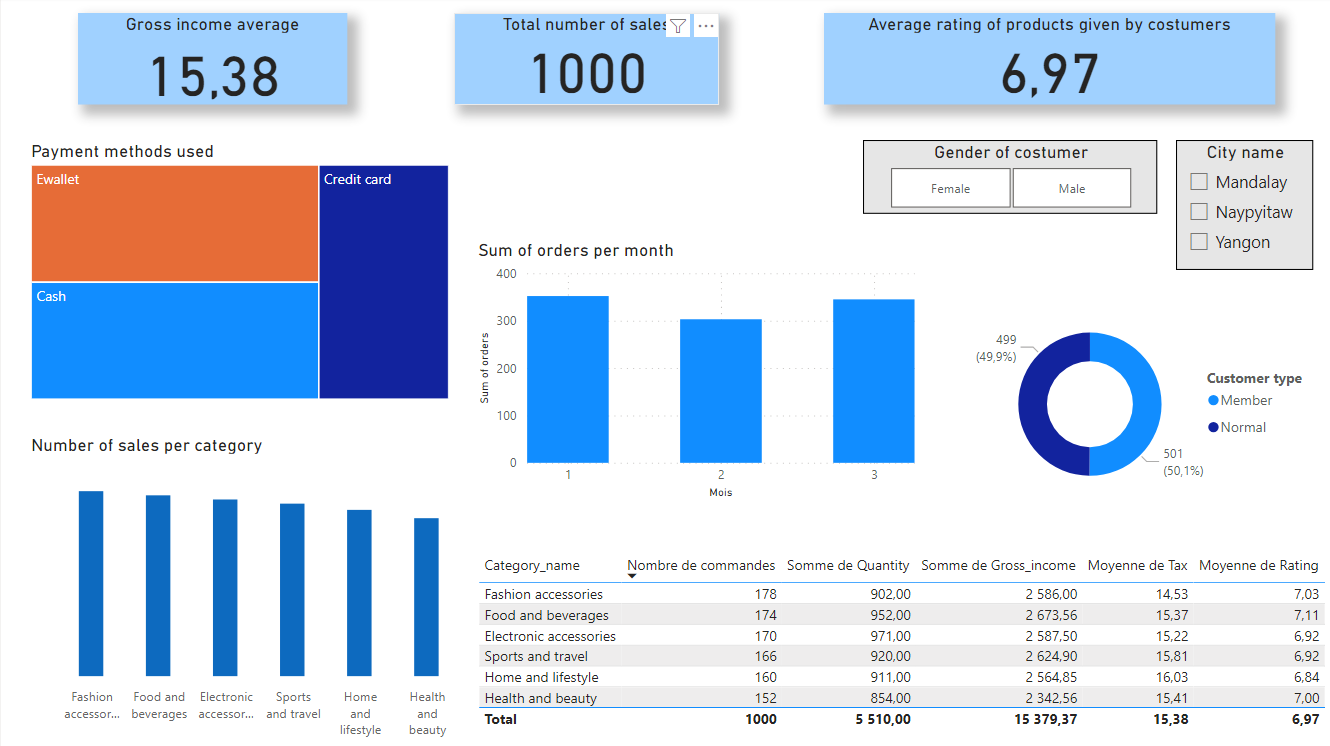

Layout of this report page (visuals, bound fields, positions):
{"tool":"powerbi","page":{"name":"Page 1","canvas":[1280,720],"ordinal":0},"visuals":[{"type":"card","title":"Total number of sales","fields":{"Values":["CountNonNull(supermarket sales_fact.ID)"]},"box":[435.7,15.5,255.2,88.3],"z":0},{"type":"card","title":"Average rating of products given by costumers","fields":{"Values":["Avg(supermarket sales_fact.Rating)"]},"box":[791.9,15.5,433.8,88.3],"z":1000},{"type":"ribbonChart","title":"Number of sales per category","fields":{"Y":["CountNonNull(supermarket sales_fact.ID)"],"Category":["supermarket category.Category_name"]},"box":[24.3,420.2,429.9,299.9],"z":2000},{"type":"slicer","title":"Gender of costumer","fields":{"Values":["supermarket gender.Gender_name"]},"box":[828.7,137.8,283.4,70.8],"z":3000},{"type":"slicer","title":"City name","fields":{"Values":["supermarket city.City_name"]},"box":[1129.6,137.8,132,125.2],"z":4000},{"type":"tableEx","fields":{"Values":["supermarket category.Category_name","supermarket sales_fact.ID","Sum(supermarket sales_fact.Quantity)","Sum(supermarket sales_fact.Gross_income)","Avg(supermarket sales_fact.Tax)","Avg(supermarket sales_fact.Rating)"]},"box":[454.2,530.8,825.8,189.2],"z":5000},{"type":"card","title":"Gross income average","fields":{"Values":["Avg(supermarket sales_fact.Gross_income)"]},"box":[73.8,15.5,259.1,88.3],"z":6000},{"type":"donutChart","fields":{"Category":["supermarket customer_type.Customer_type_name"],"Y":["CountNonNull(supermarket sales_fact.ID)"]},"box":[929.7,264.9,343.5,254.3],"z":7000},{"type":"treemap","title":"Payment methods used","fields":{"Group":["supermarket payment.Payment_name"],"Values":["CountNonNull(supermarket sales_fact.ID)"]},"box":[24.3,137.8,411.5,254.3],"z":7001},{"type":"columnChart","title":"Sum of orders per month","fields":{"Category":["supermarket date.Date_month"],"Y":["supermarket sales_fact.Sum of orders"]},"box":[454.2,232.9,429.9,254.3],"z":7002}]}

Visuals, with their boxes in screenshot pixels (x1, y1, x2, y2), scaled from the page's 1280x720 canvas onto the 1330x746 screenshot:
"Total number of sales" card: bbox=[453, 16, 718, 108]
"Average rating of products given by costumers" card: bbox=[823, 16, 1274, 108]
"Number of sales per category" ribbonChart: bbox=[25, 435, 472, 745]
"Gender of costumer" slicer: bbox=[861, 143, 1156, 216]
"City name" slicer: bbox=[1174, 143, 1311, 272]
tableEx - supermarket category.Category_name x supermarket sales_fact.ID: bbox=[472, 550, 1329, 745]
"Gross income average" card: bbox=[77, 16, 346, 108]
donutChart - supermarket customer_type.Customer_type_name x CountNonNull(supermarket sales_fact.ID): bbox=[966, 274, 1323, 538]
"Payment methods used" treemap: bbox=[25, 143, 453, 406]
"Sum of orders per month" columnChart: bbox=[472, 241, 919, 505]
